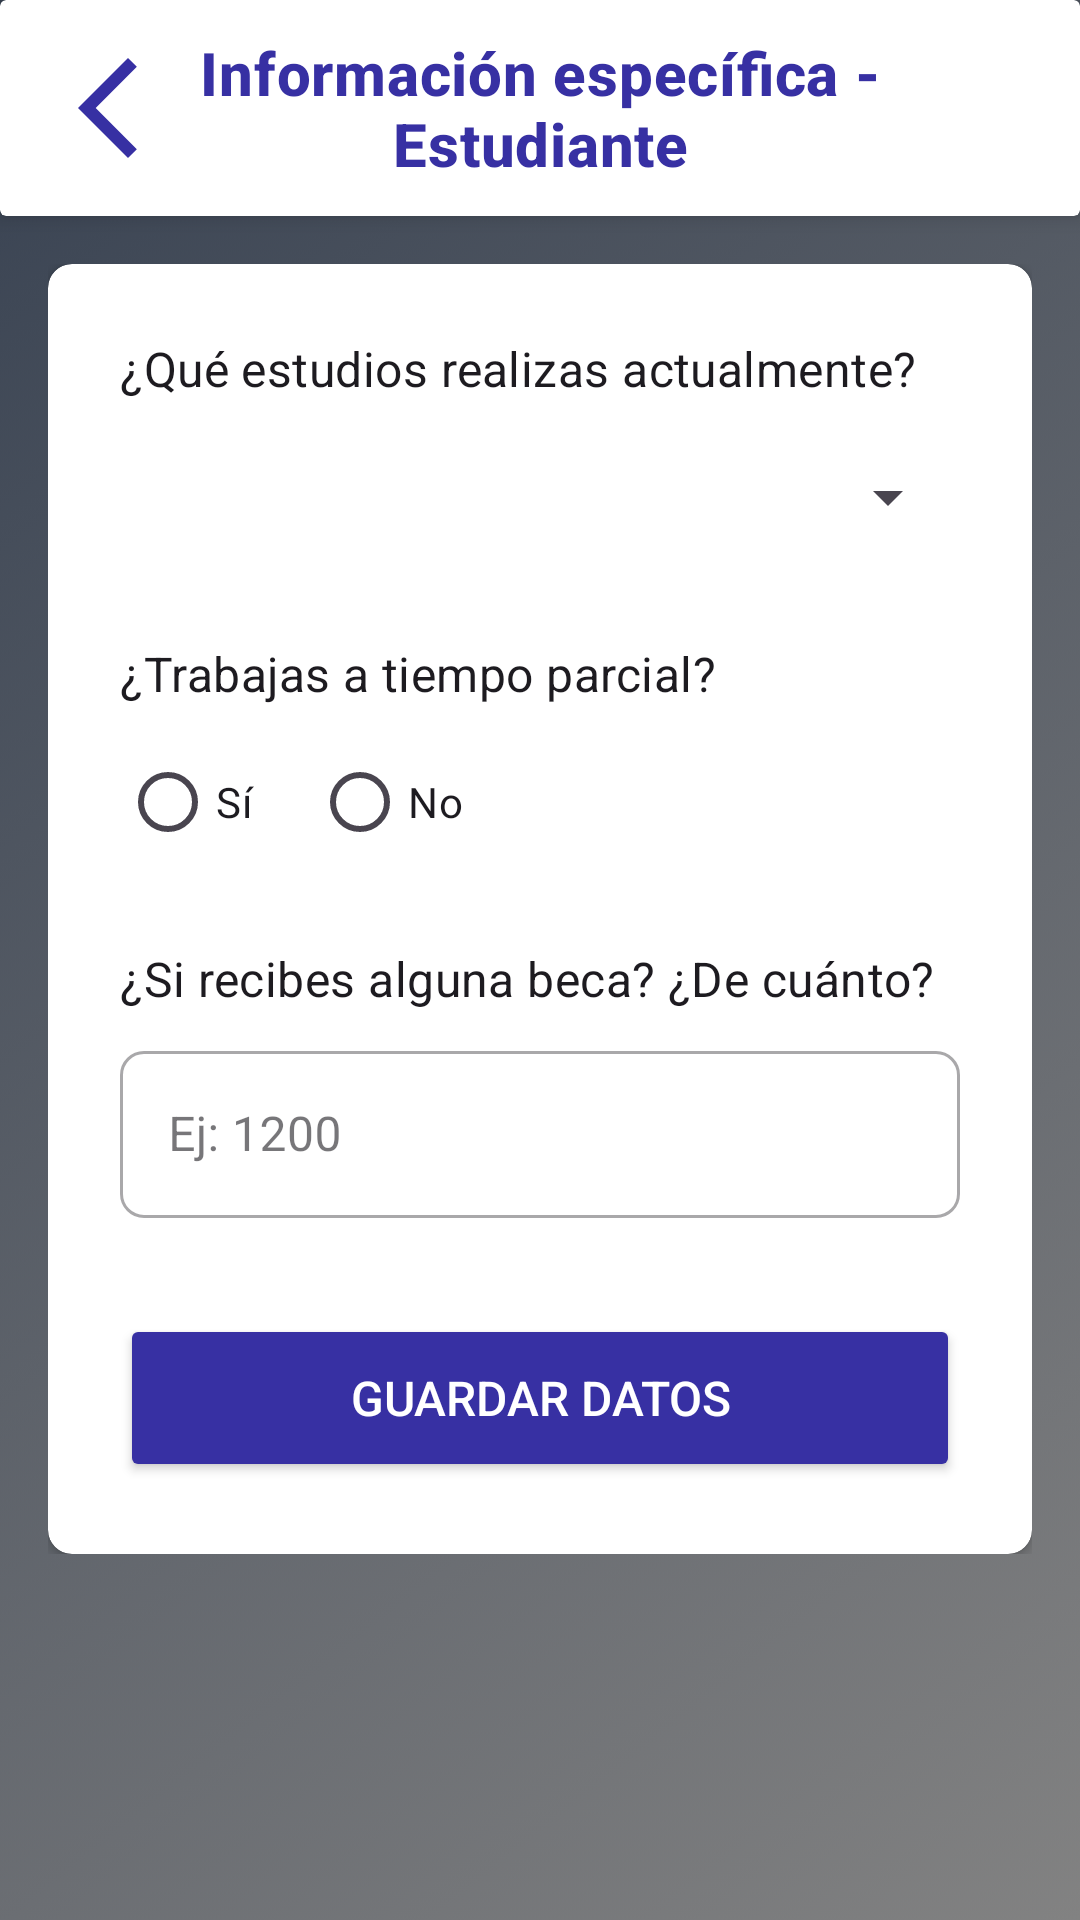

Named icons in this screenshot (1080*1920) and their bounding boxes, bbox=[x1, y1, x2, y2]:
Volver atrás: bbox=[78, 58, 137, 158]
